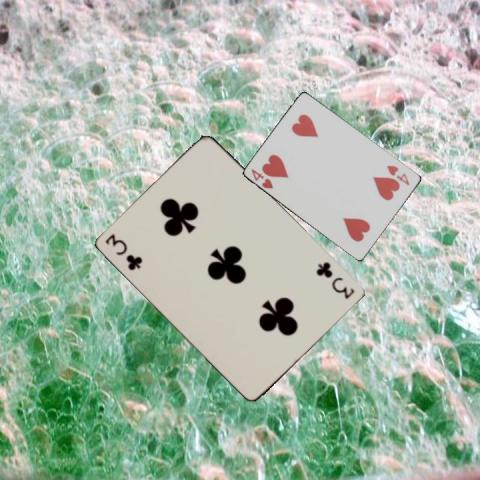3c: (313, 258, 357, 300), (103, 231, 144, 272)
4h: (384, 162, 411, 187), (248, 166, 274, 190)
